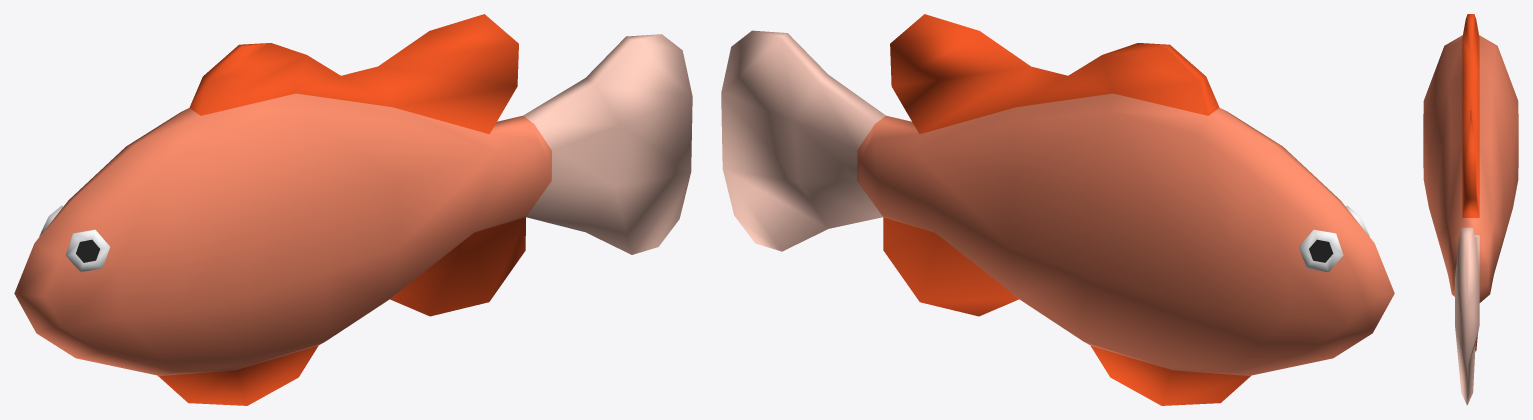
The model's file is Fish_044.glb.
The picture shows the model from 3 angles, left to right: view 1: azimuth 30°, elevation 25°; view 2: azimuth 150°, elevation 25°; view 3: azimuth 270°, elevation 25°; orthographic projection. The views are drawn at different scales.
Visible parts, largest first — view 1: Fish_044; view 2: Fish_044; view 3: Fish_044.
Boxes of the visible parts, box(x1,y1,x2,y2) form: Fish_044: box(14, 14, 692, 405); Fish_044: box(721, 14, 1394, 405); Fish_044: box(1423, 14, 1518, 405).
Size of the model in its own units: 0.5517 by 0.2816 by 0.0862.
Materials: 1 (1 with a texture image).
